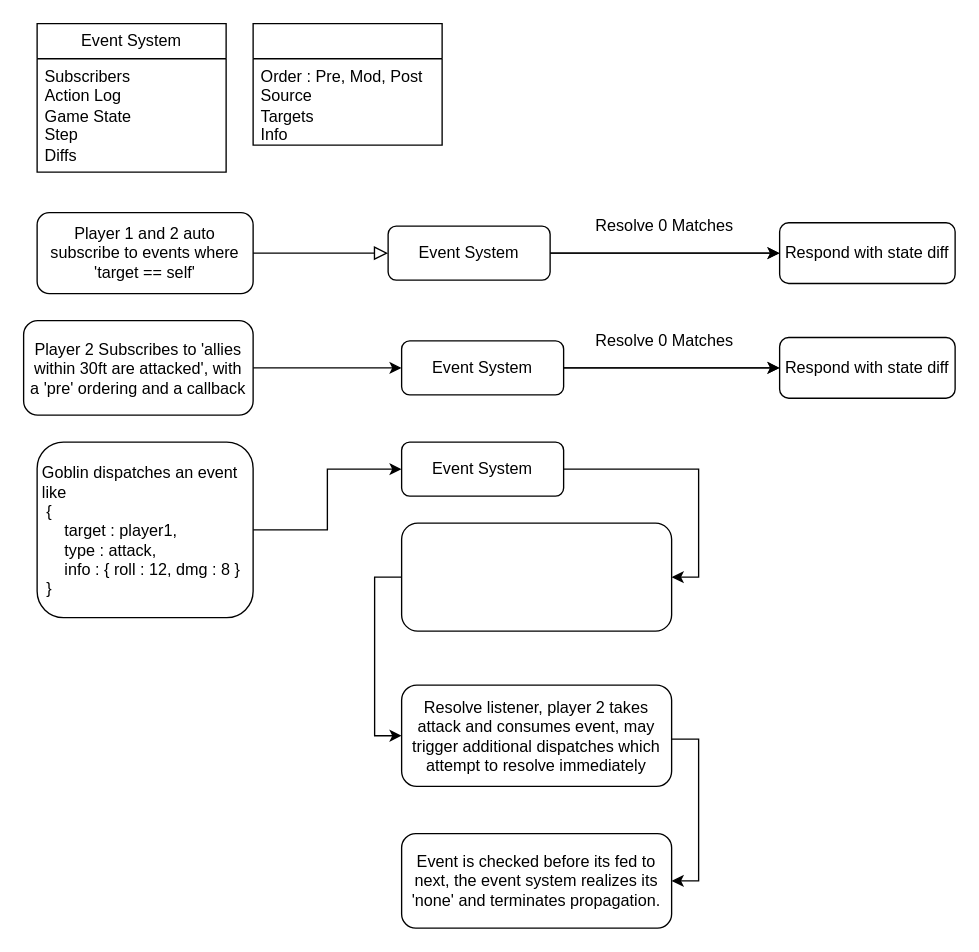
Image size: 979x952. Some labels were removed from this diagram. The shapes that lost their labels are listed below. From the top down, each one's box as (x1, y1, x2, y2) in pixels, then its label:
(252, 22, 442, 145): Event
(400, 522, 672, 631): Resolve Matches In Order 1. 'allies within 30ft are attacked' 2. target==player1
